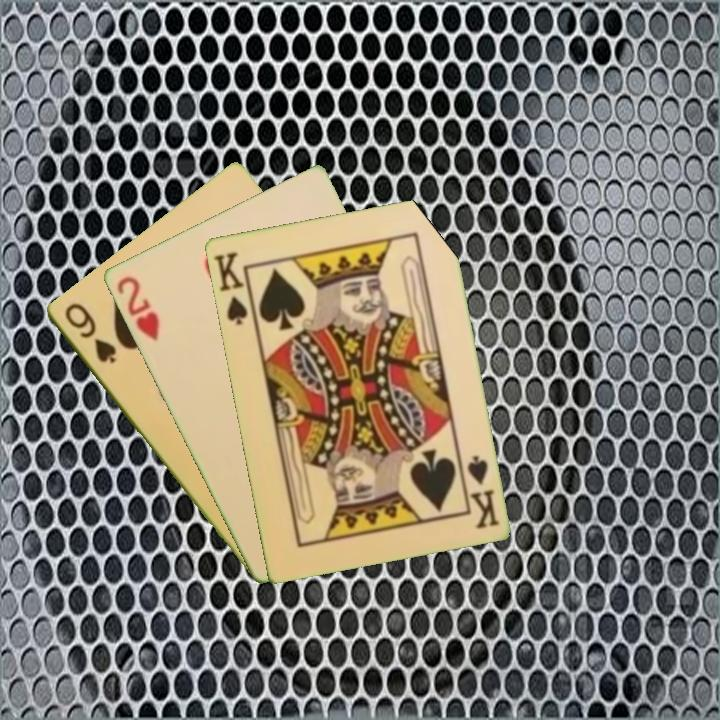2h: (112, 272, 162, 344)
9s: (60, 299, 119, 367)
Ks: (209, 248, 250, 328), (463, 451, 502, 532)
